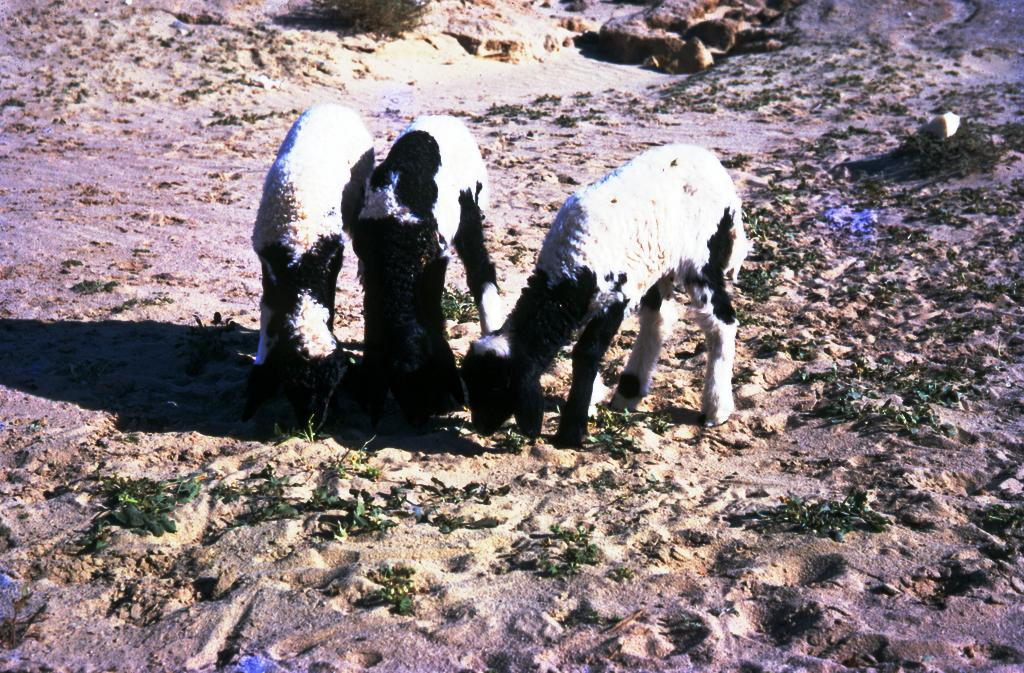Sheep: (456, 144, 750, 451), (352, 111, 497, 429), (245, 105, 371, 424)
